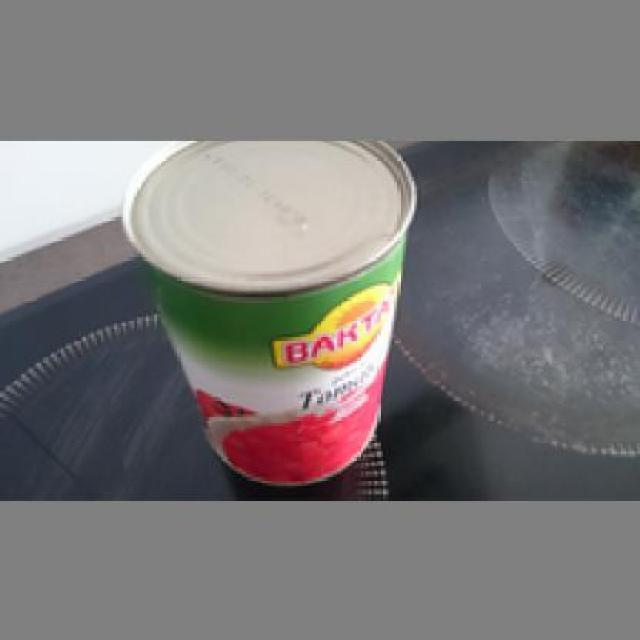Tomato Sauce: (114, 137, 417, 483)
